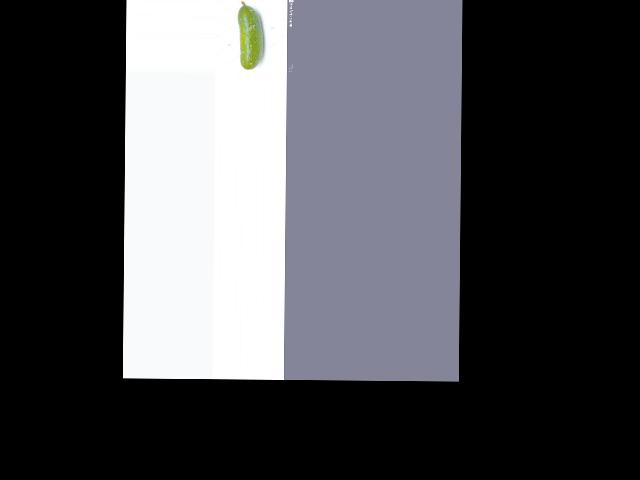cucumber: (237, 1, 263, 70)
